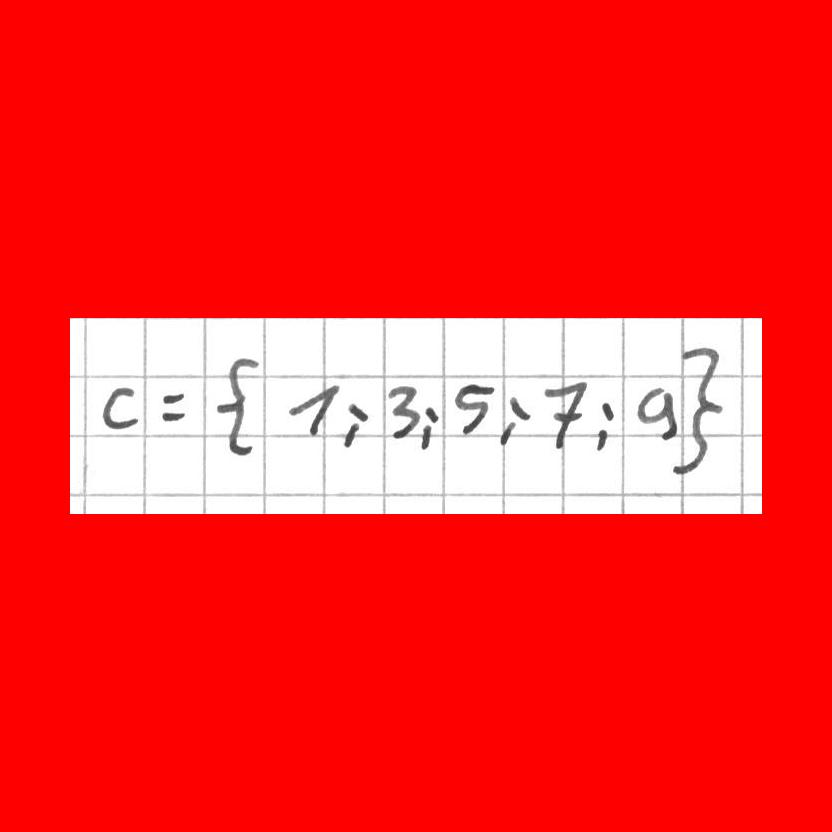Char: (680, 344, 717, 478), (213, 356, 261, 458), (286, 382, 338, 442), (545, 378, 586, 452), (452, 379, 494, 439), (636, 383, 678, 442), (99, 382, 141, 434), (384, 380, 417, 444), (495, 395, 532, 449), (339, 398, 373, 452), (592, 395, 615, 453), (157, 387, 187, 424), (417, 403, 438, 451)
